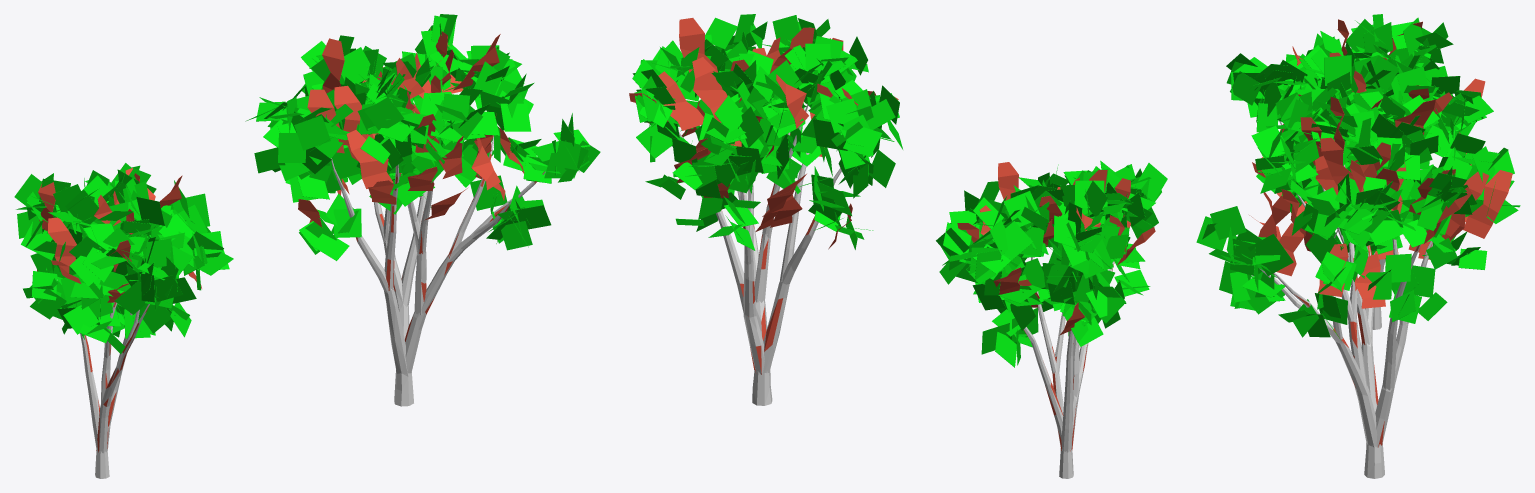
File: Trees 2.fbx
3 views of the same model, side by side, from view 1: azimuth 30°, elevation 25°; view 2: azimuth 150°, elevation 25°; view 3: azimuth 270°, elevation 25° (orthographic).
Parts seen in each view (by area): view 1: Crepe Myrtle Leaves 1, Crepe Myrtle Leaves 2, Crepe Myrtle 1, Crepe Myrtle 2; view 2: Crepe Myrtle Leaves 1, Crepe Myrtle Leaves 2, Crepe Myrtle 1, Crepe Myrtle 2; view 3: Crepe Myrtle Leaves 1, Crepe Myrtle Leaves 2, Crepe Myrtle 1.
Boxes of the visible parts, bbox=[...] form: Crepe Myrtle Leaves 1: bbox=[245, 14, 600, 260]; Crepe Myrtle Leaves 2: bbox=[14, 163, 233, 353]; Crepe Myrtle 1: bbox=[331, 135, 545, 406]; Crepe Myrtle 2: bbox=[80, 302, 149, 478]; Crepe Myrtle Leaves 1: bbox=[629, 14, 902, 250]; Crepe Myrtle Leaves 2: bbox=[936, 160, 1167, 367]; Crepe Myrtle 1: bbox=[678, 103, 841, 405]; Crepe Myrtle 2: bbox=[1023, 257, 1114, 478]; Crepe Myrtle Leaves 1: bbox=[1196, 91, 1520, 339]; Crepe Myrtle Leaves 2: bbox=[1226, 14, 1493, 221]; Crepe Myrtle 1: bbox=[1259, 164, 1432, 478].
Bounding box in the file's own units: 3877 × 2647 × 2133.
